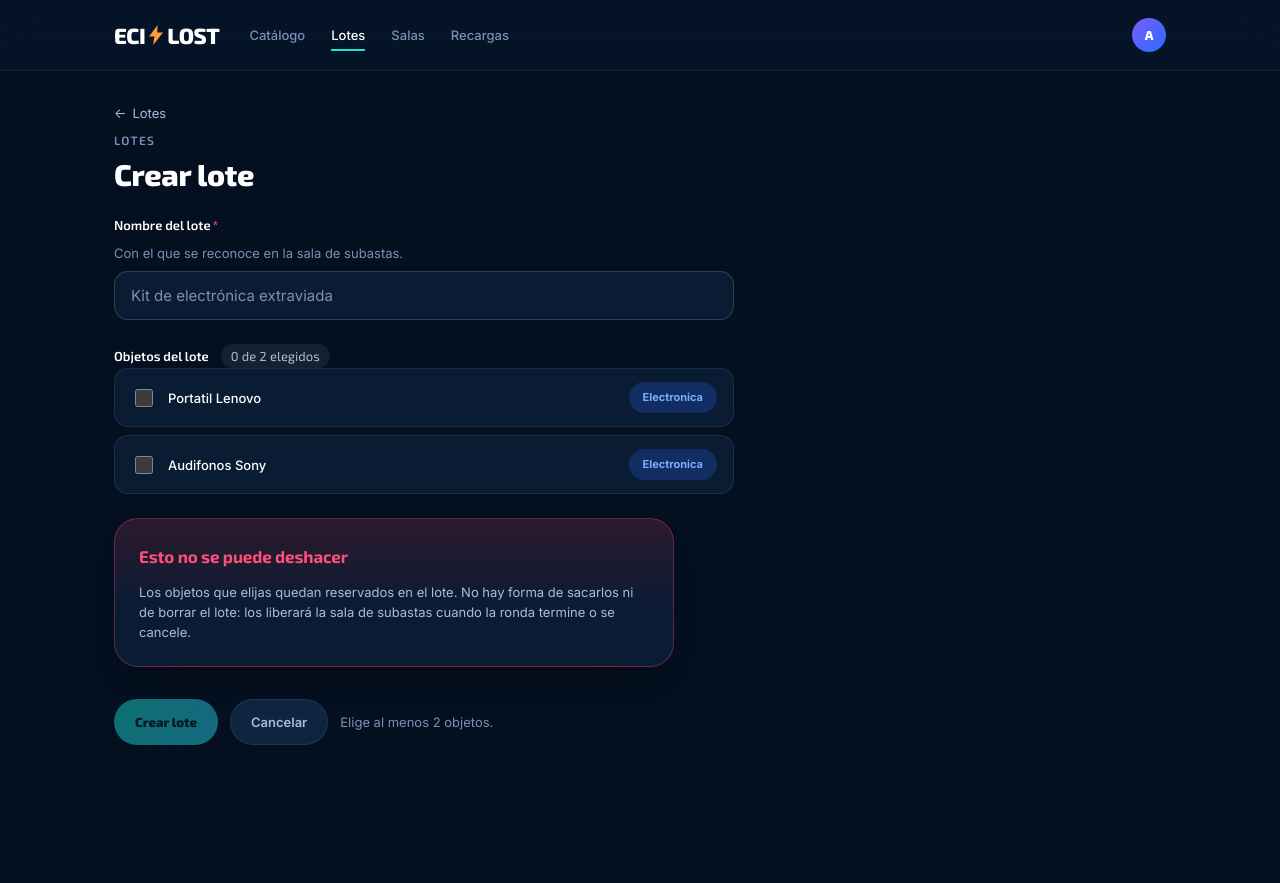
Test case: Lotes › crea el lote con los objetos elegidos y lleva a su ficha
Type "Kit de electrónica" into the field labelled "Nombre del lote*".
click(424, 296); type("Kit de electrónica")  # box [114,271,734,320]
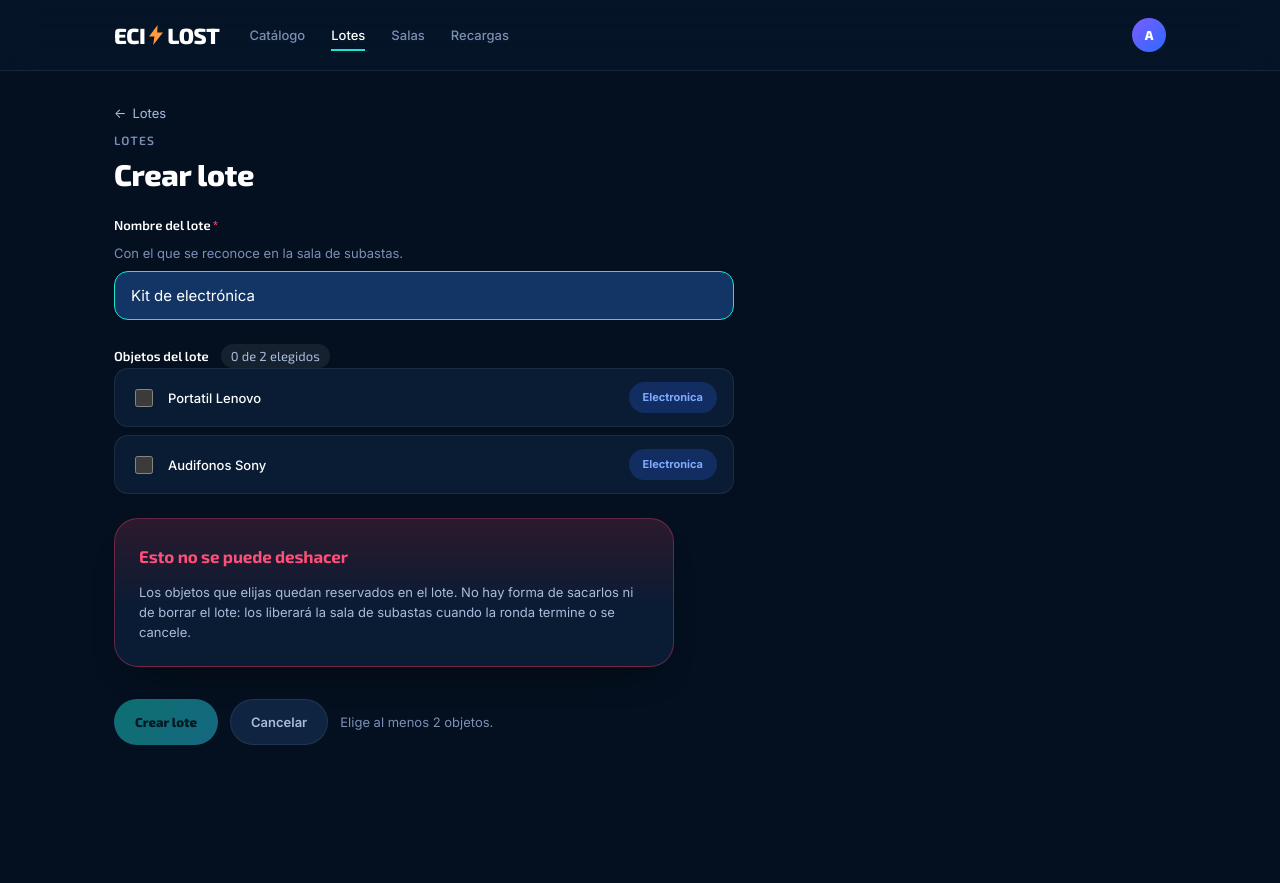
Click the checkbox labelled "Portatil Lenovo Electronica".
click(144, 398)  # box [135,389,153,407]
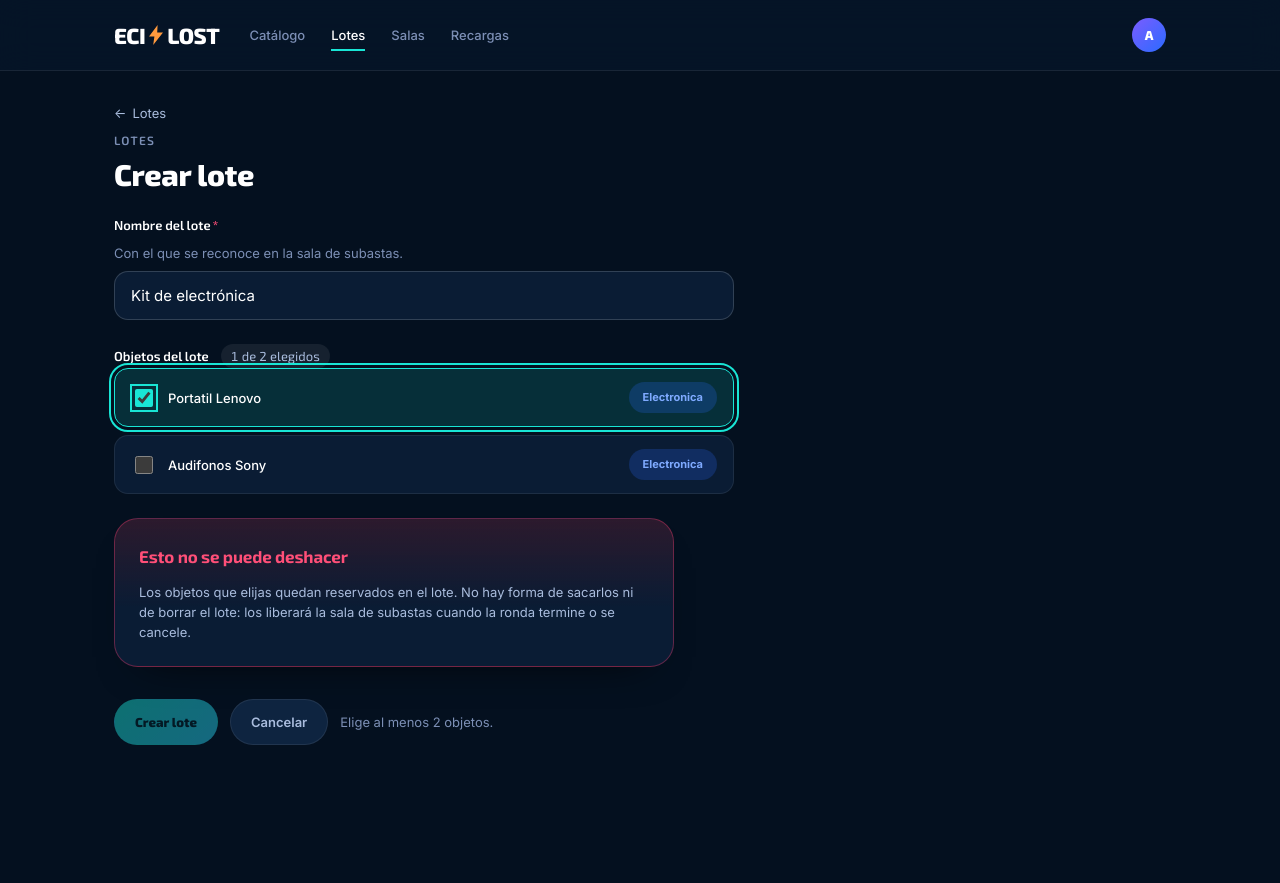
Click the checkbox labelled "Audifonos Sony Electronica".
click(144, 465)  # box [135,456,153,474]
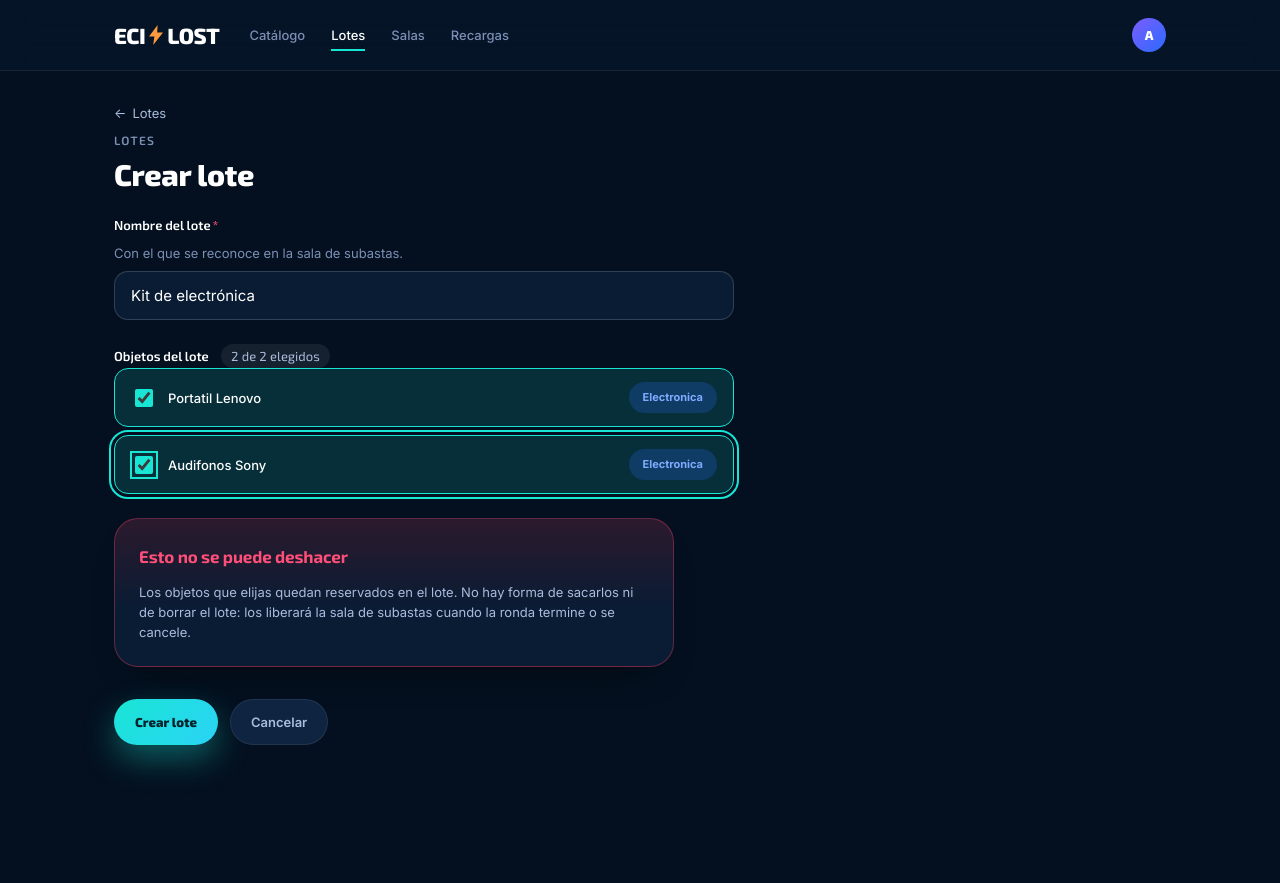
Click the button "Crear lote".
click(166, 722)  # box [114,699,218,745]
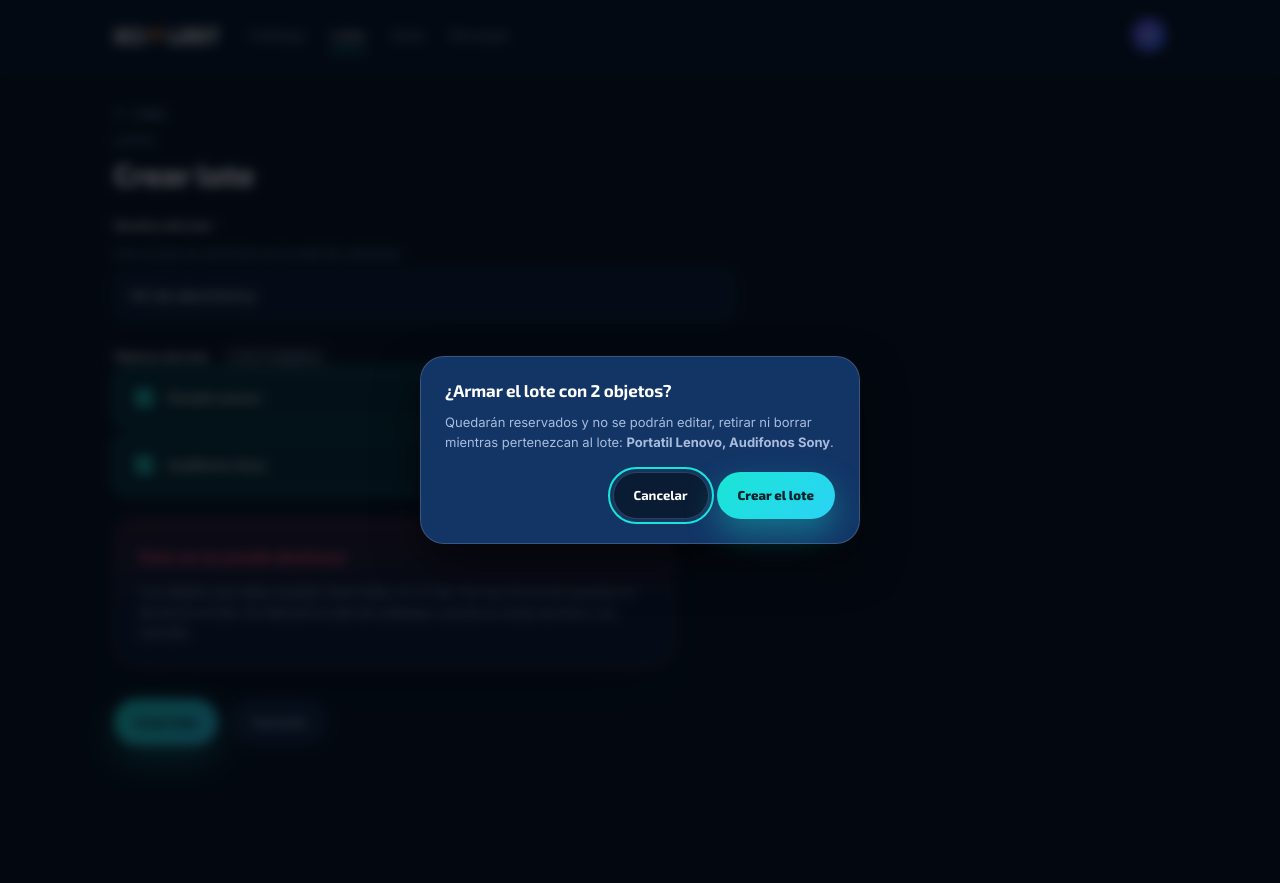
Expected: the dialog "¿Armar el lote con 2 objetos?" shows "Portatil Lenovo, Audifonos Sony", [626,434,830,450]
Click the button "Crear el lote".
click(776, 495)  # box [716,472,835,518]
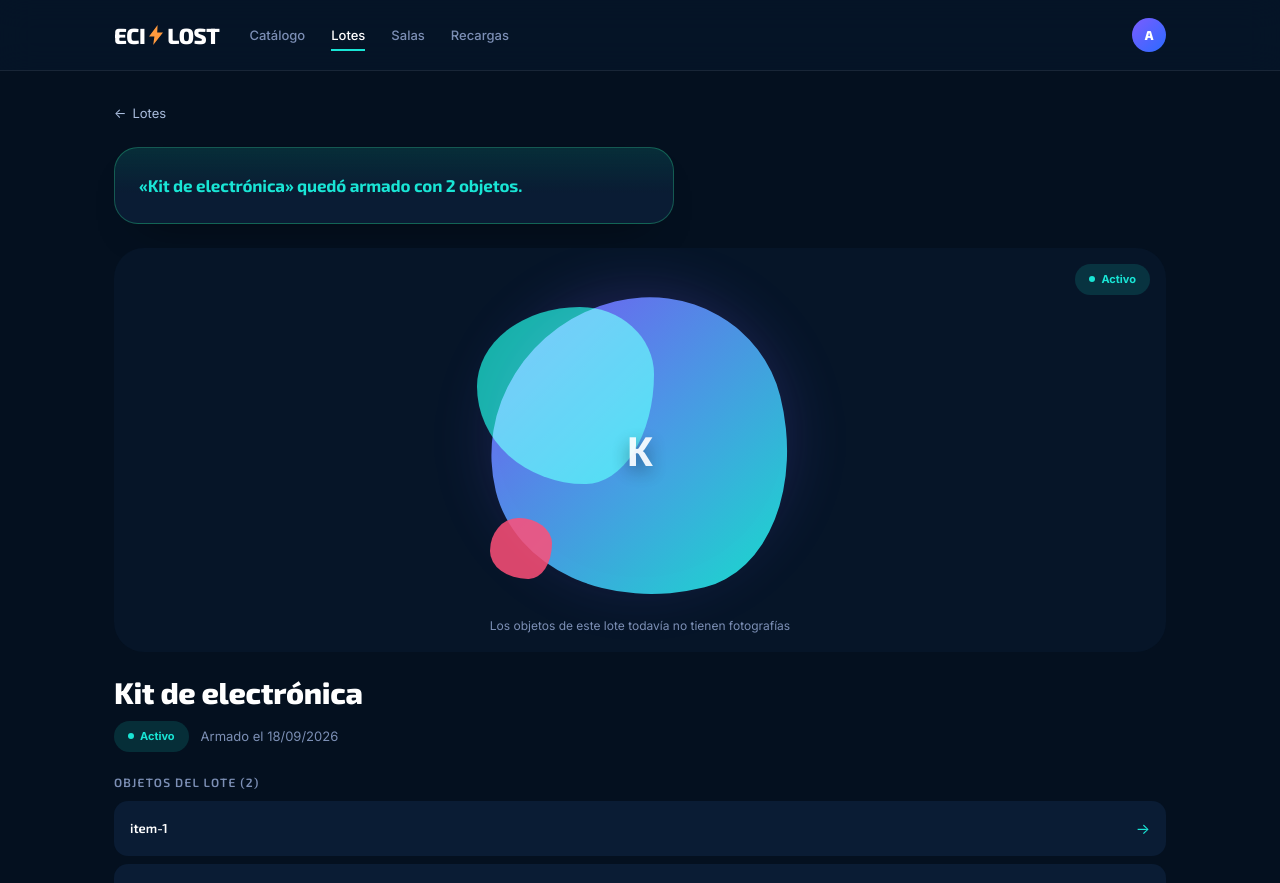
Expected: the text "«Kit de electrónica» quedó armado con 2 objetos." is shown, [139,172,522,198]
